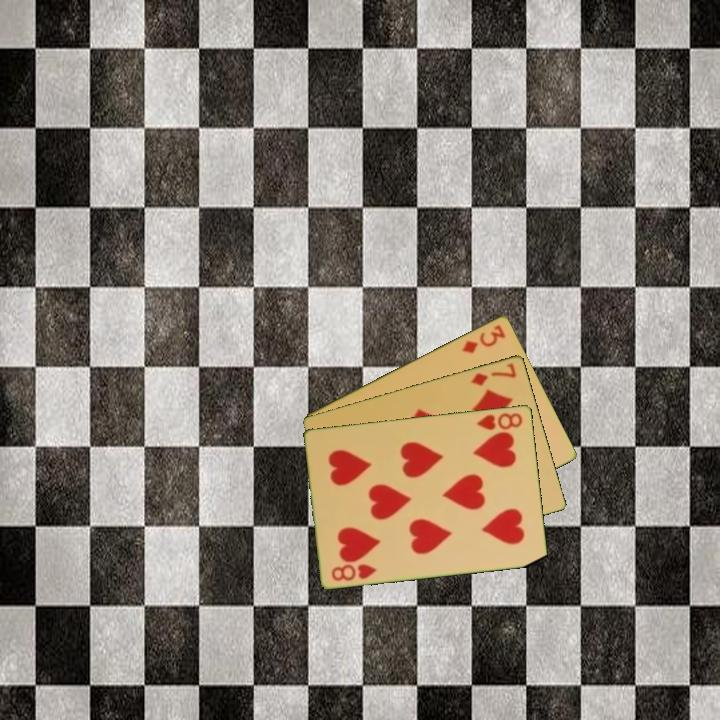3d: (459, 321, 509, 356)
7d: (468, 359, 519, 388)
8h: (473, 409, 526, 433), (328, 560, 380, 584)
